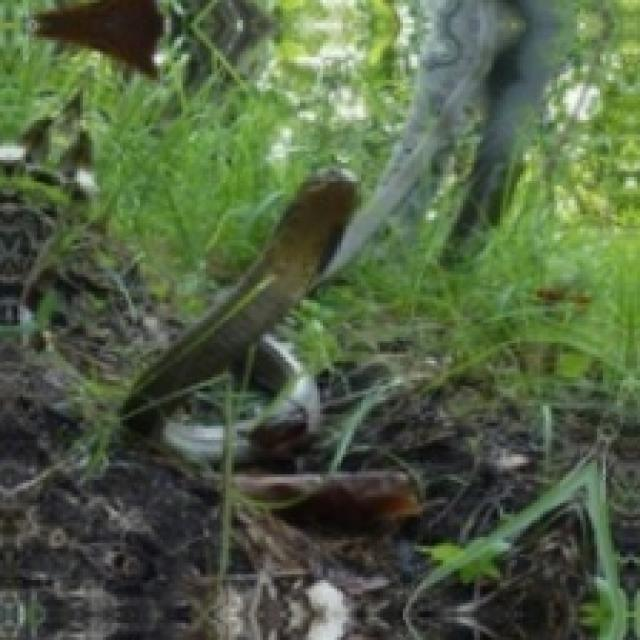king cobra: (120, 0, 571, 431), (120, 169, 354, 431)
